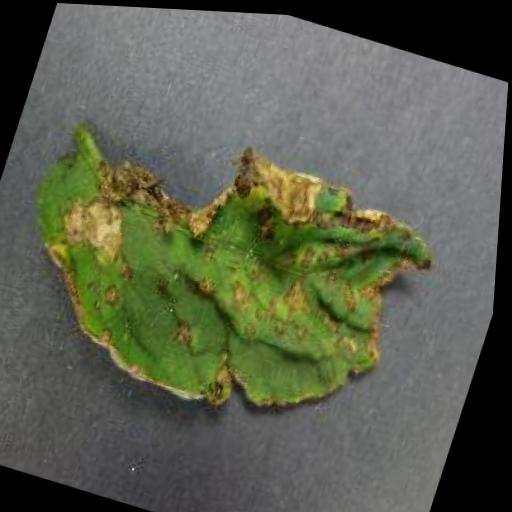Bacterial Spot: (0, 87, 461, 467)
